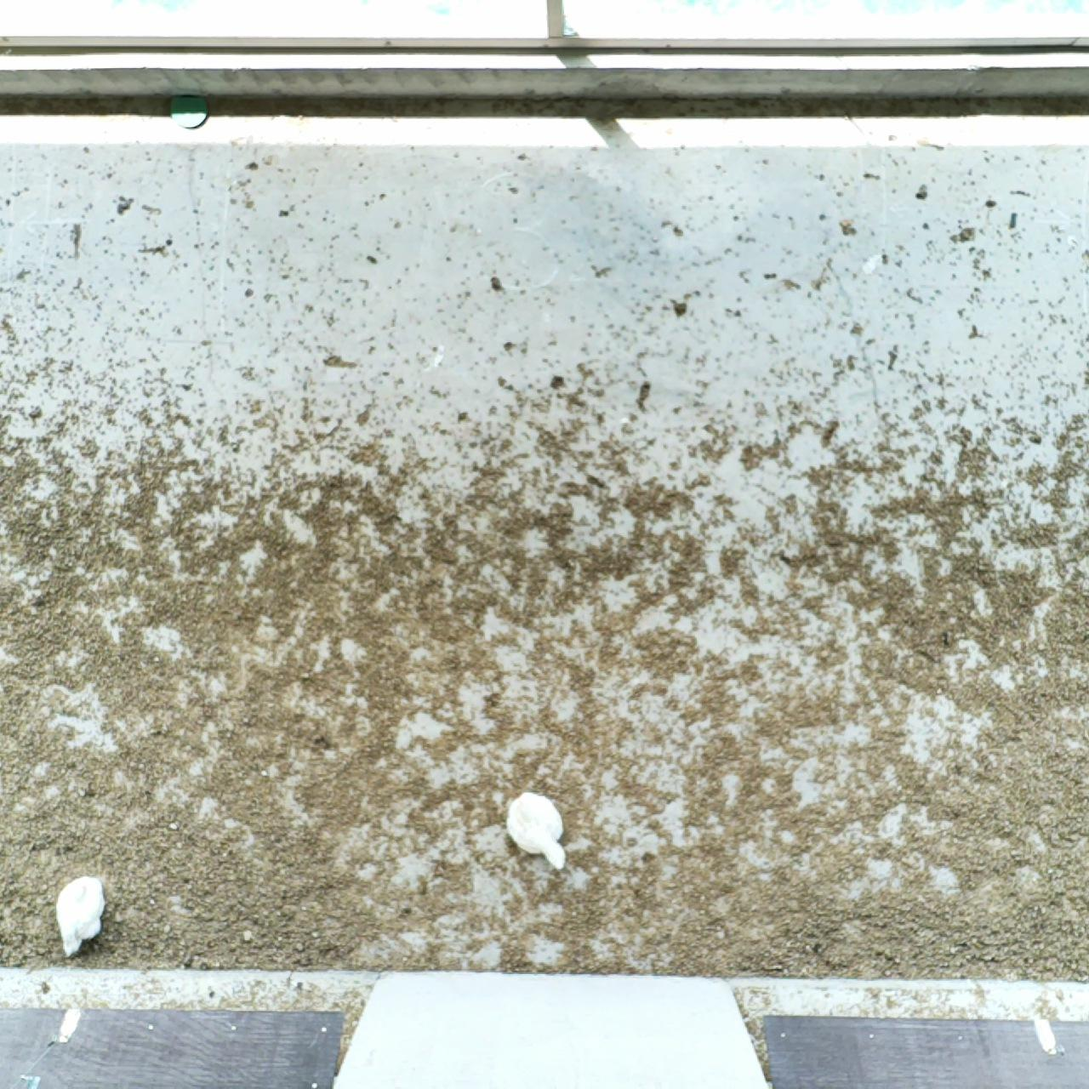chicken: (499, 783, 571, 870), (54, 873, 110, 961)
